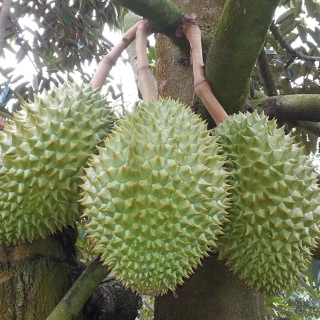sau_rieng: (84, 94, 230, 307), (213, 108, 318, 296), (3, 82, 117, 249)
